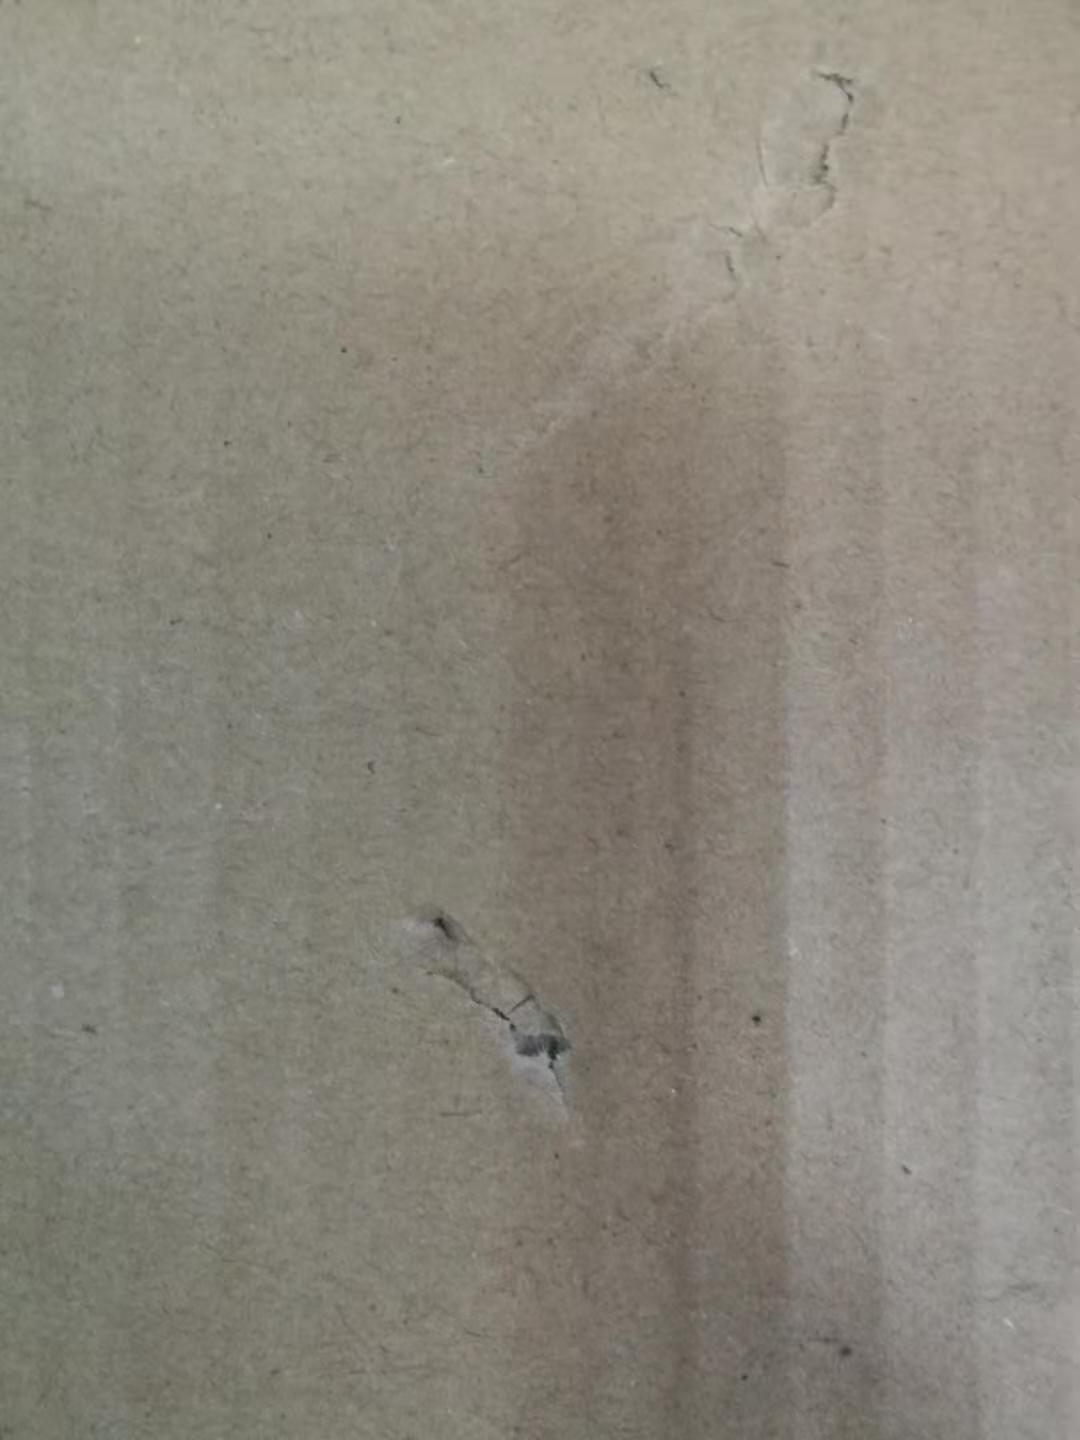defect: (469, 18, 911, 495), (383, 875, 608, 1162)
